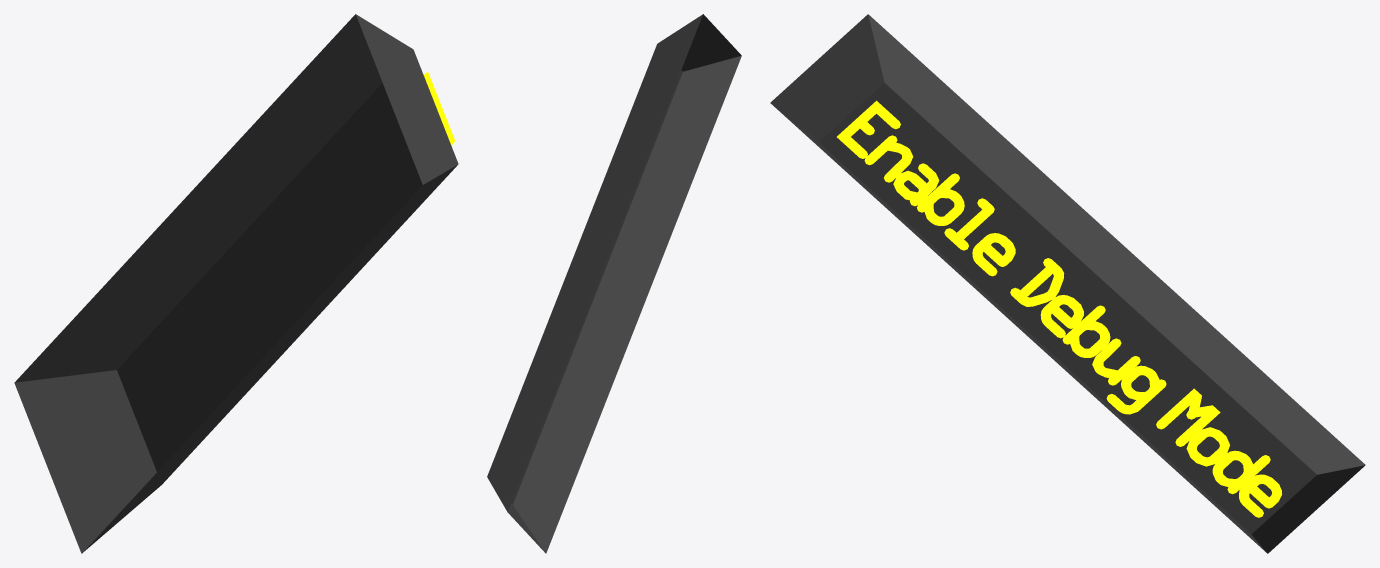
The model's file is debug-button.glb.
3 views of the same model, side by side, from view 1: azimuth 30°, elevation 25°; view 2: azimuth 150°, elevation 25°; view 3: azimuth 270°, elevation 25° (orthographic). The views are drawn at different scales.
Visible parts, largest first — view 1: Plane; view 2: Plane; view 3: Plane, Text.
Boxes of the visible parts, left/top/right/bottom form: Plane: left=14, top=14, right=458, bottom=553; Plane: left=487, top=14, right=741, bottom=553; Plane: left=770, top=14, right=1365, bottom=553; Text: left=837, top=100, right=1281, bottom=517.
Bounding box in the file's own units: 0.0157 × 0.1401 × 0.1401.
